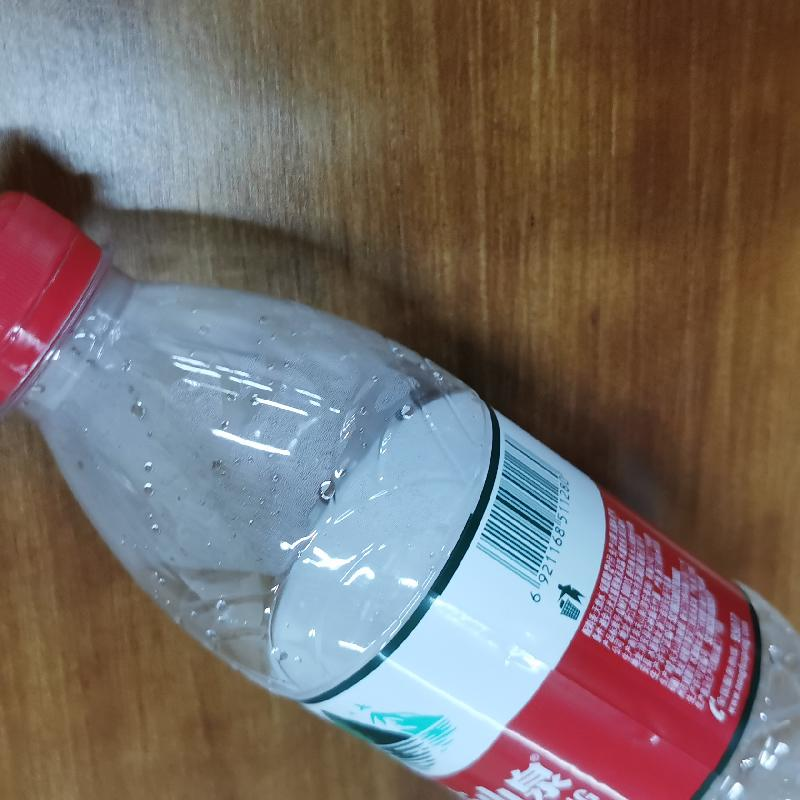bottles: (4, 181, 799, 799)
